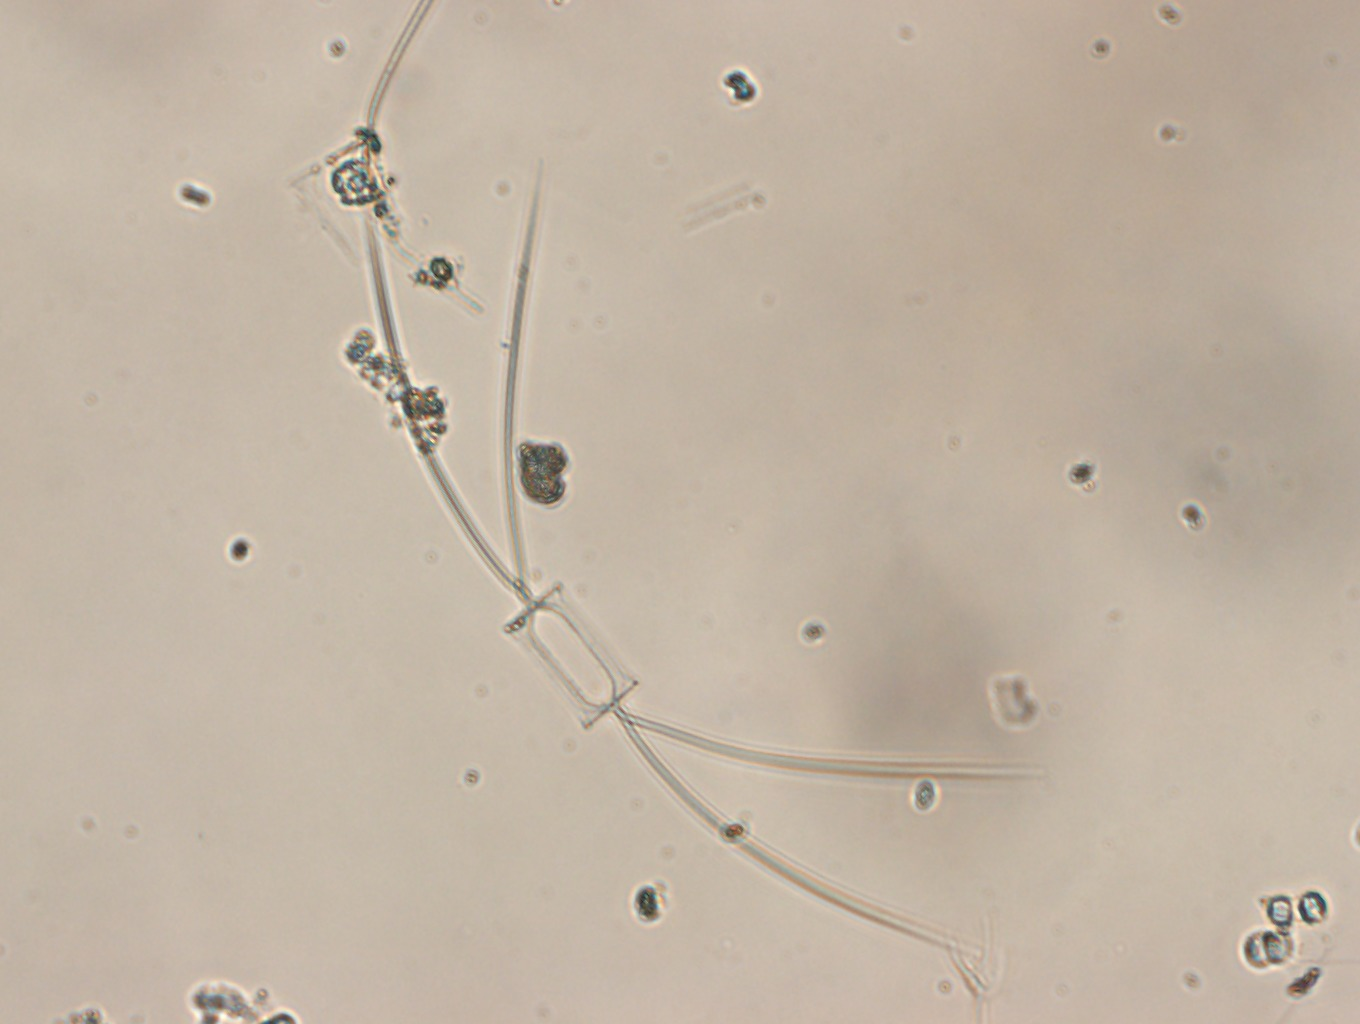chaetoceros: (358, 133, 1051, 963)
